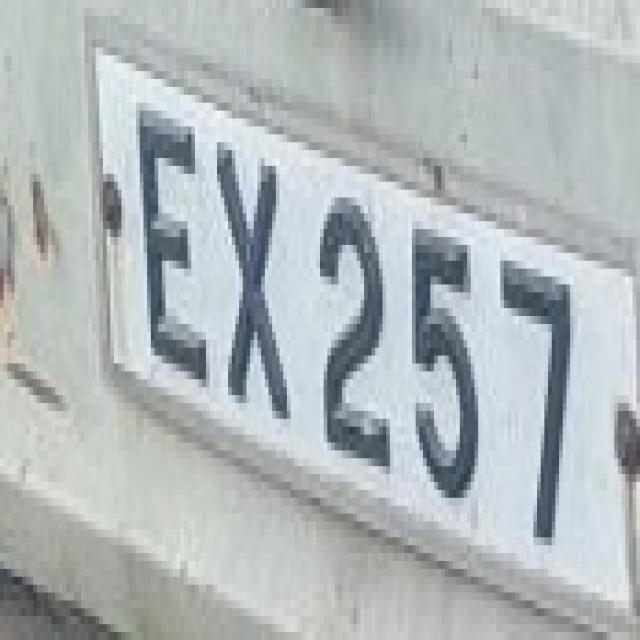2: (294, 174, 390, 466)
4: (592, 260, 633, 538)
5: (390, 198, 490, 498)
7: (482, 229, 588, 545)
E: (114, 79, 210, 379)
X: (202, 119, 294, 418)
